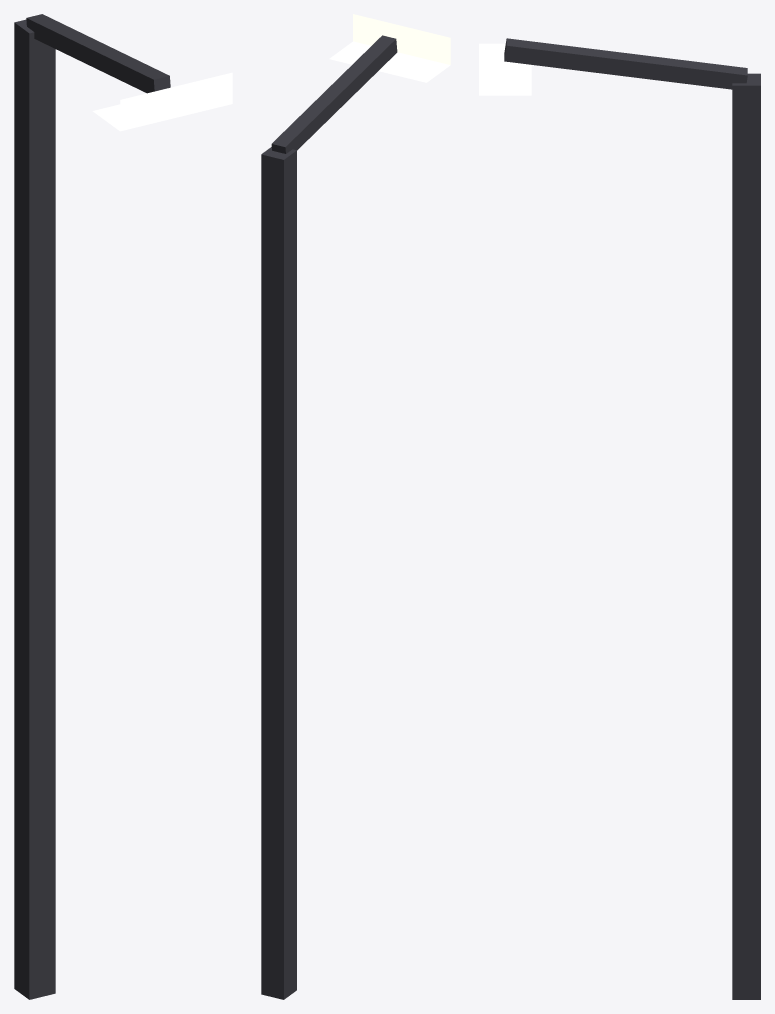
Rendered from lamp_post.glb.
3 renders of one model, left to right at view 1: azimuth 30°, elevation 25°; view 2: azimuth 150°, elevation 25°; view 3: azimuth 270°, elevation 25°, orthographic. The views are drawn at different scales.
Parts seen in each view (by area): view 1: lamp_post; view 2: lamp_post; view 3: lamp_post.
Part boxes in pixels (left/top/right/bottom): lamp_post: left=14, top=14, right=232, bottom=999; lamp_post: left=261, top=14, right=450, bottom=999; lamp_post: left=479, top=38, right=760, bottom=999.
Bounding box in the file's own units: 0.56 × 4.8 × 1.29.
